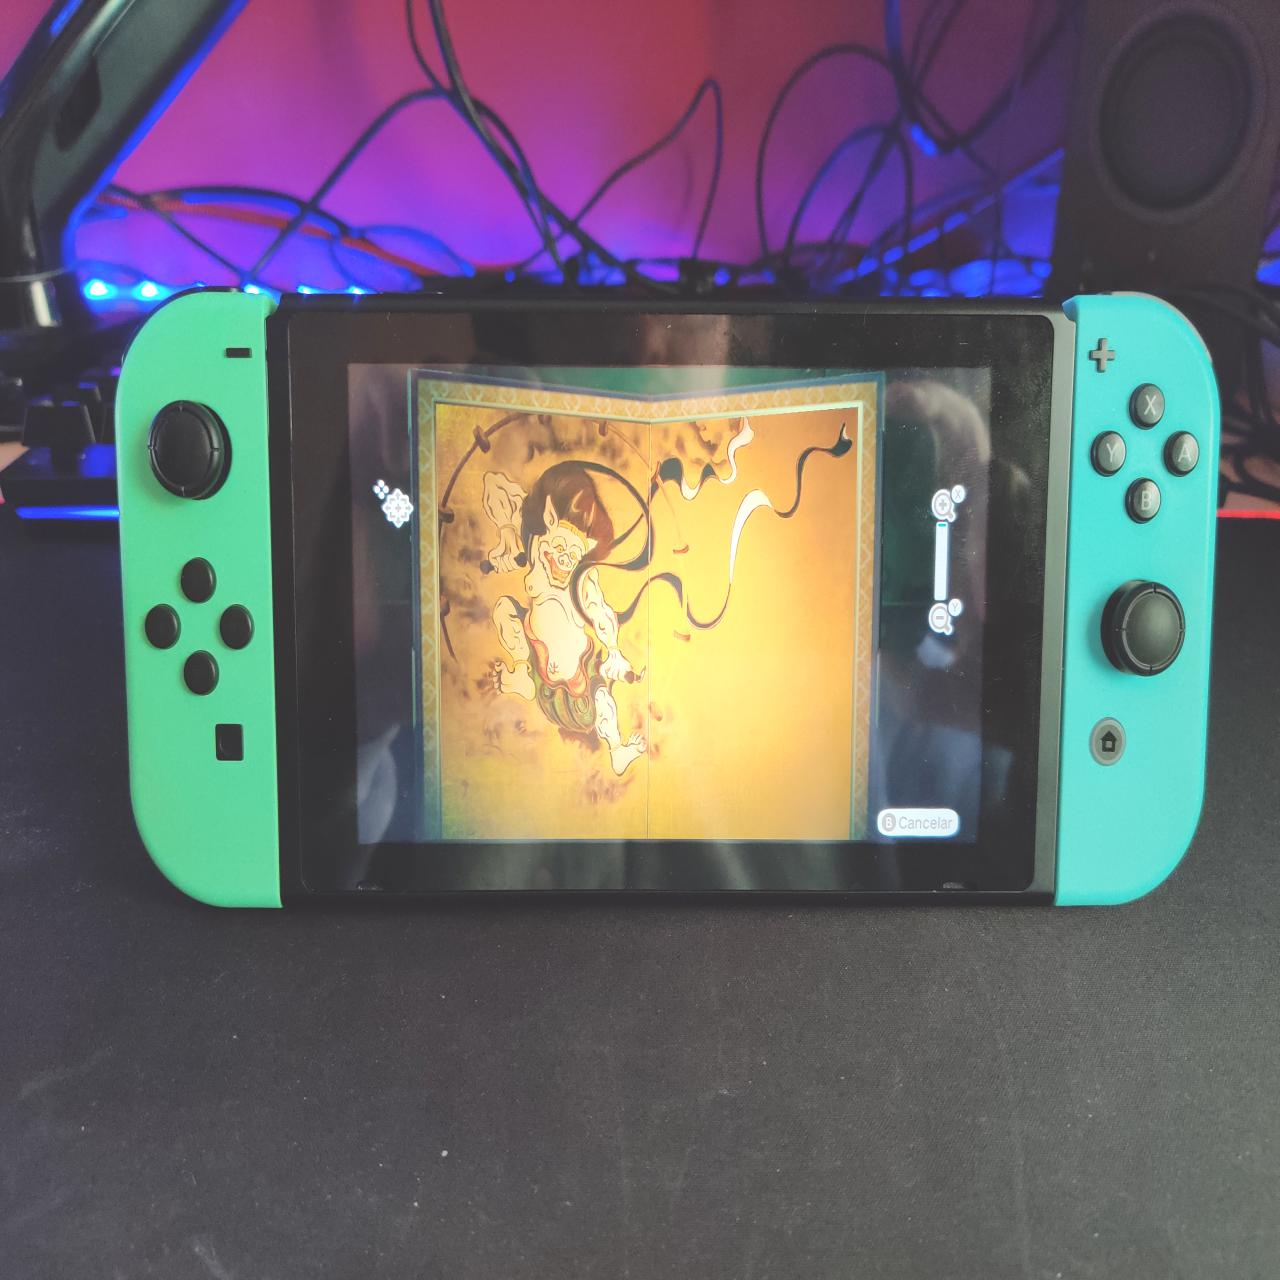Raijin: (416, 372, 876, 844)
